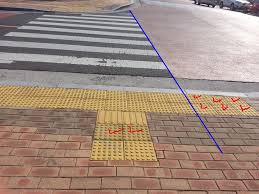guide_blocks: (95, 89, 158, 160), (1, 86, 97, 111), (157, 94, 259, 116)
